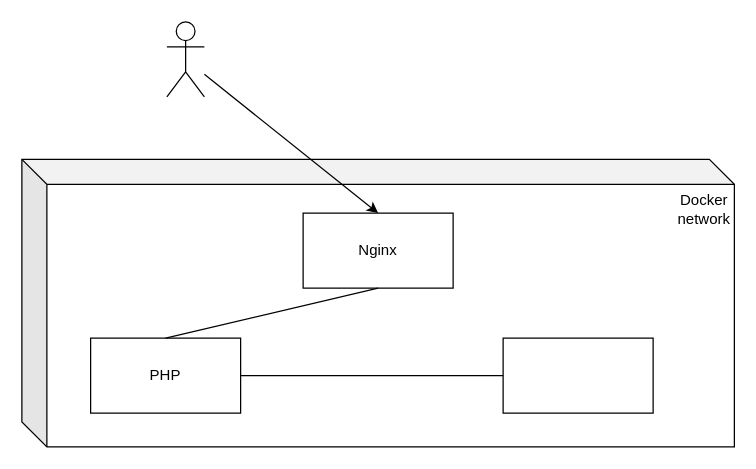
Some shapes in this 756 by 469 pixel diagram are drawn without their labels. Each missing label, with the box of its shape:
Actor: (166, 21, 204, 97)
MySQL: (502, 337, 653, 413)
